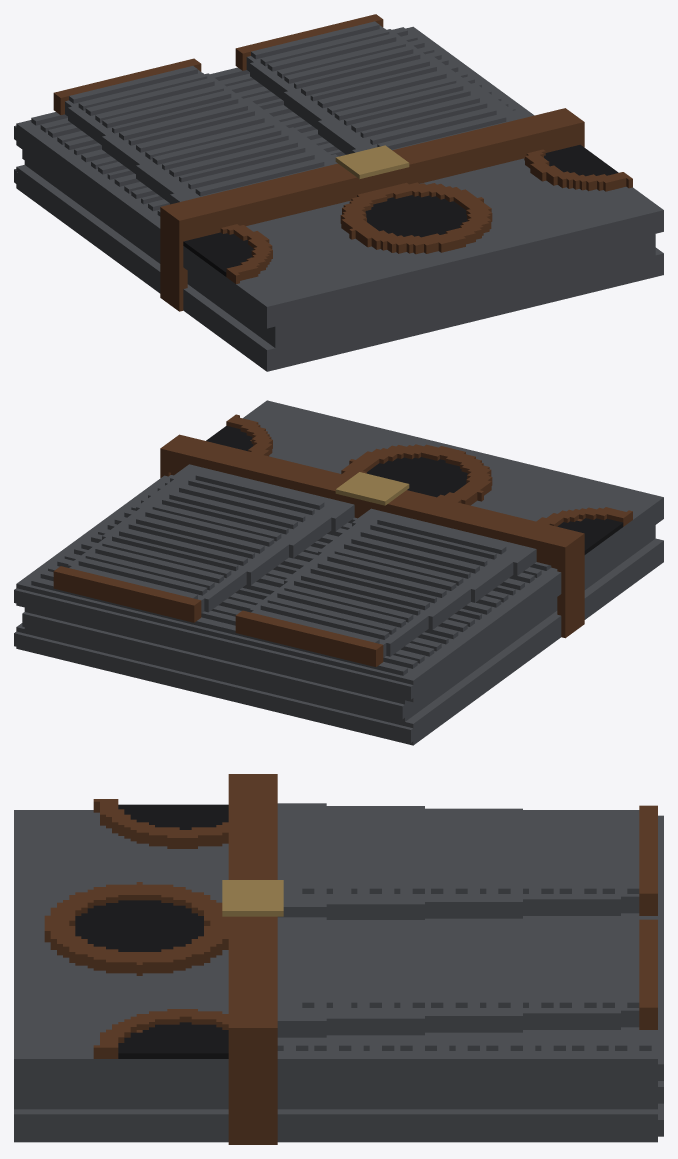
The model's file is mc_chainmail_sjumpsuit.glb.
The picture shows the model from 3 angles, top to bottom: view 1: azimuth 30°, elevation 25°; view 2: azimuth 150°, elevation 25°; view 3: azimuth 270°, elevation 25°; orthographic projection. The views are drawn at different scales.
Visible parts, largest first — view 1: mc_chainmail_sjumpsuit:compound; view 2: mc_chainmail_sjumpsuit:compound; view 3: mc_chainmail_sjumpsuit:compound.
Boxes of the visible parts, left/top/right/bottom form: mc_chainmail_sjumpsuit:compound: left=14, top=14, right=663, bottom=371; mc_chainmail_sjumpsuit:compound: left=14, top=400, right=663, bottom=745; mc_chainmail_sjumpsuit:compound: left=14, top=774, right=663, bottom=1144.
Size of the model in its own units: 0.392 by 0.088 by 0.424.
